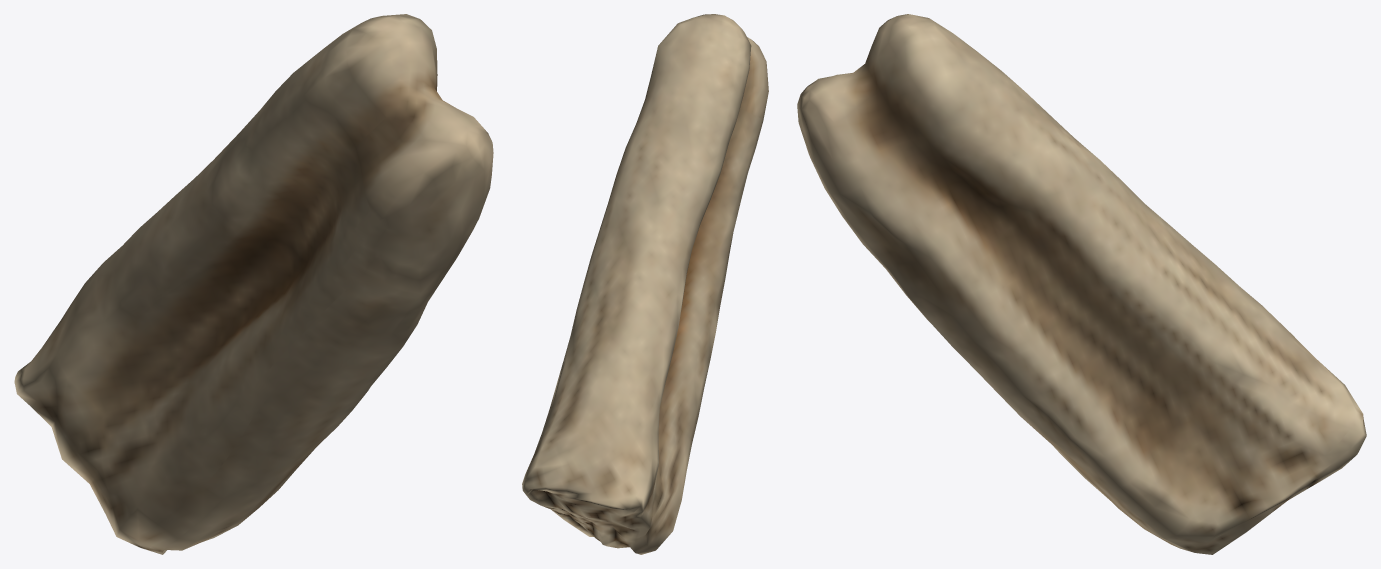
Rendered from Maxilary_Molar2.glb.
The picture shows the model from 3 angles, left to right: view 1: azimuth 30°, elevation 25°; view 2: azimuth 150°, elevation 25°; view 3: azimuth 270°, elevation 25°; orthographic projection. The views are drawn at different scales.
Parts seen in each view (by area): view 1: Maxilary_Molar2.glb; view 2: Maxilary_Molar2.glb; view 3: Maxilary_Molar2.glb.
Part boxes in pixels (<box>): Maxilary_Molar2.glb: <box>14,14,493,554</box>; Maxilary_Molar2.glb: <box>522,14,768,554</box>; Maxilary_Molar2.glb: <box>797,14,1366,554</box>.
Bounding box in the file's own units: 0.023 × 0.0676 × 0.0638.
Materials: 1 (1 with a texture image).
